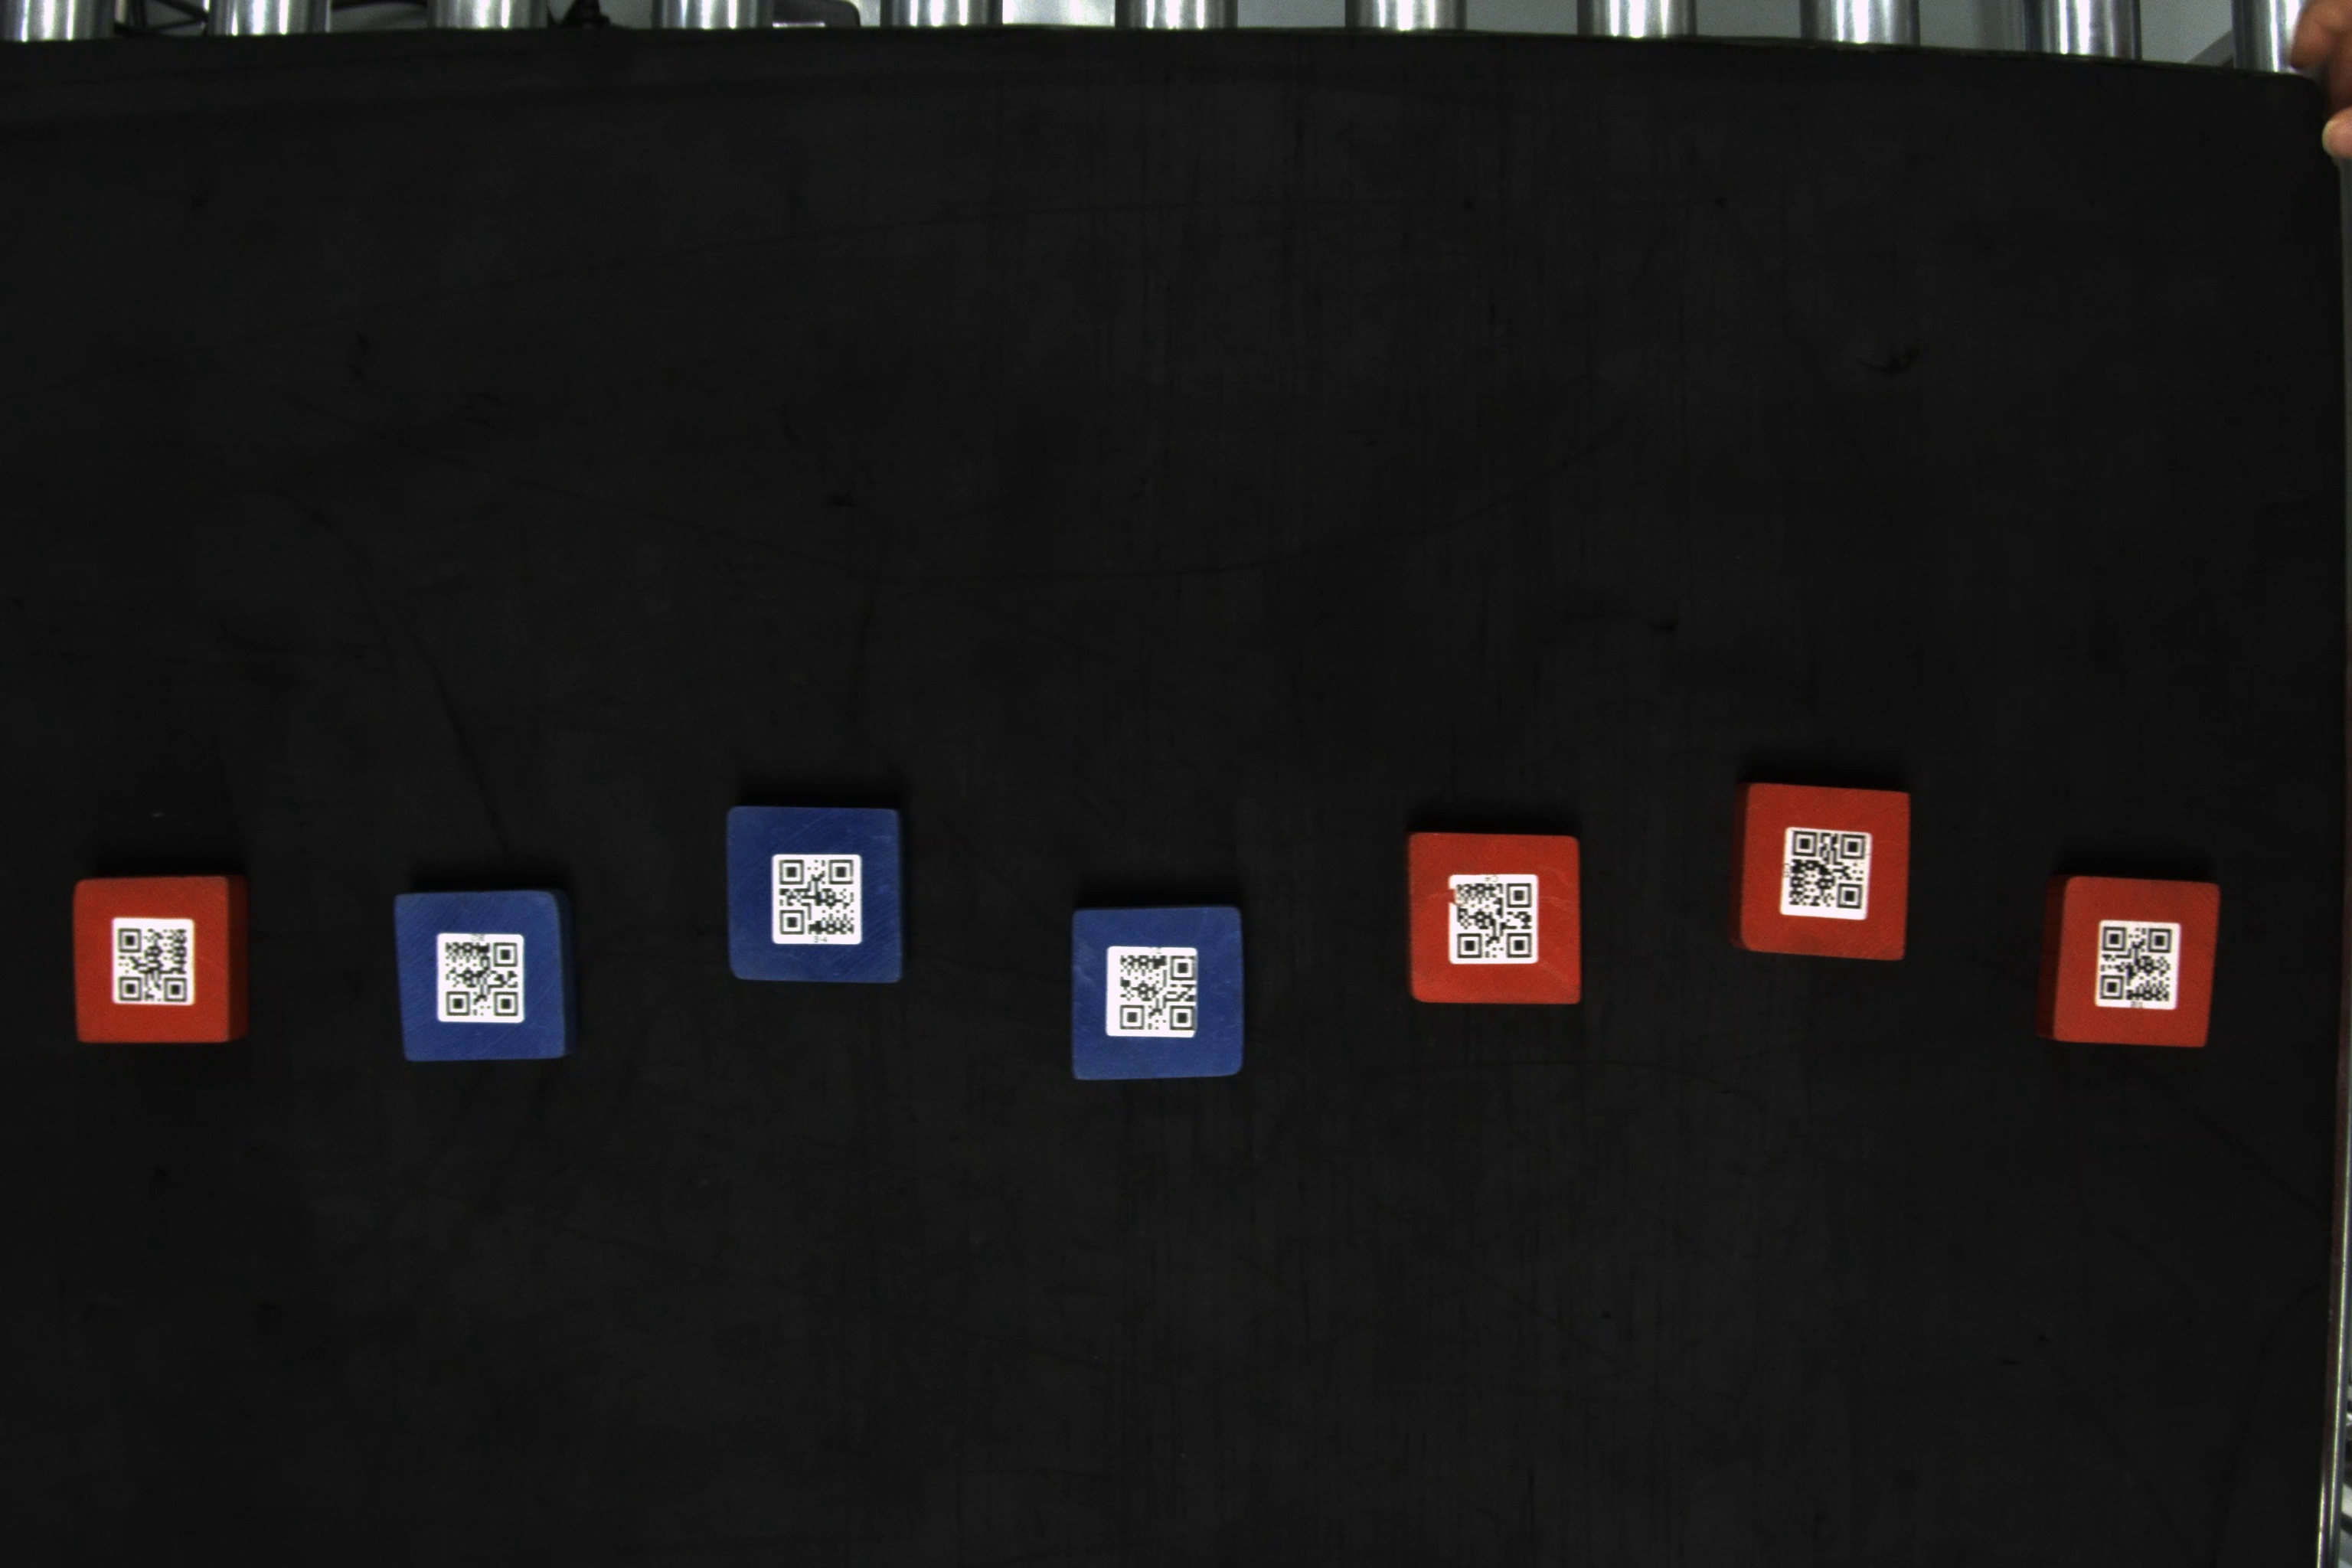wood: (383, 885, 576, 1074), (1724, 779, 1918, 964), (723, 801, 913, 987), (1405, 821, 1589, 1011), (2033, 868, 2222, 1050), (1067, 903, 1249, 1085), (61, 873, 241, 1055)
